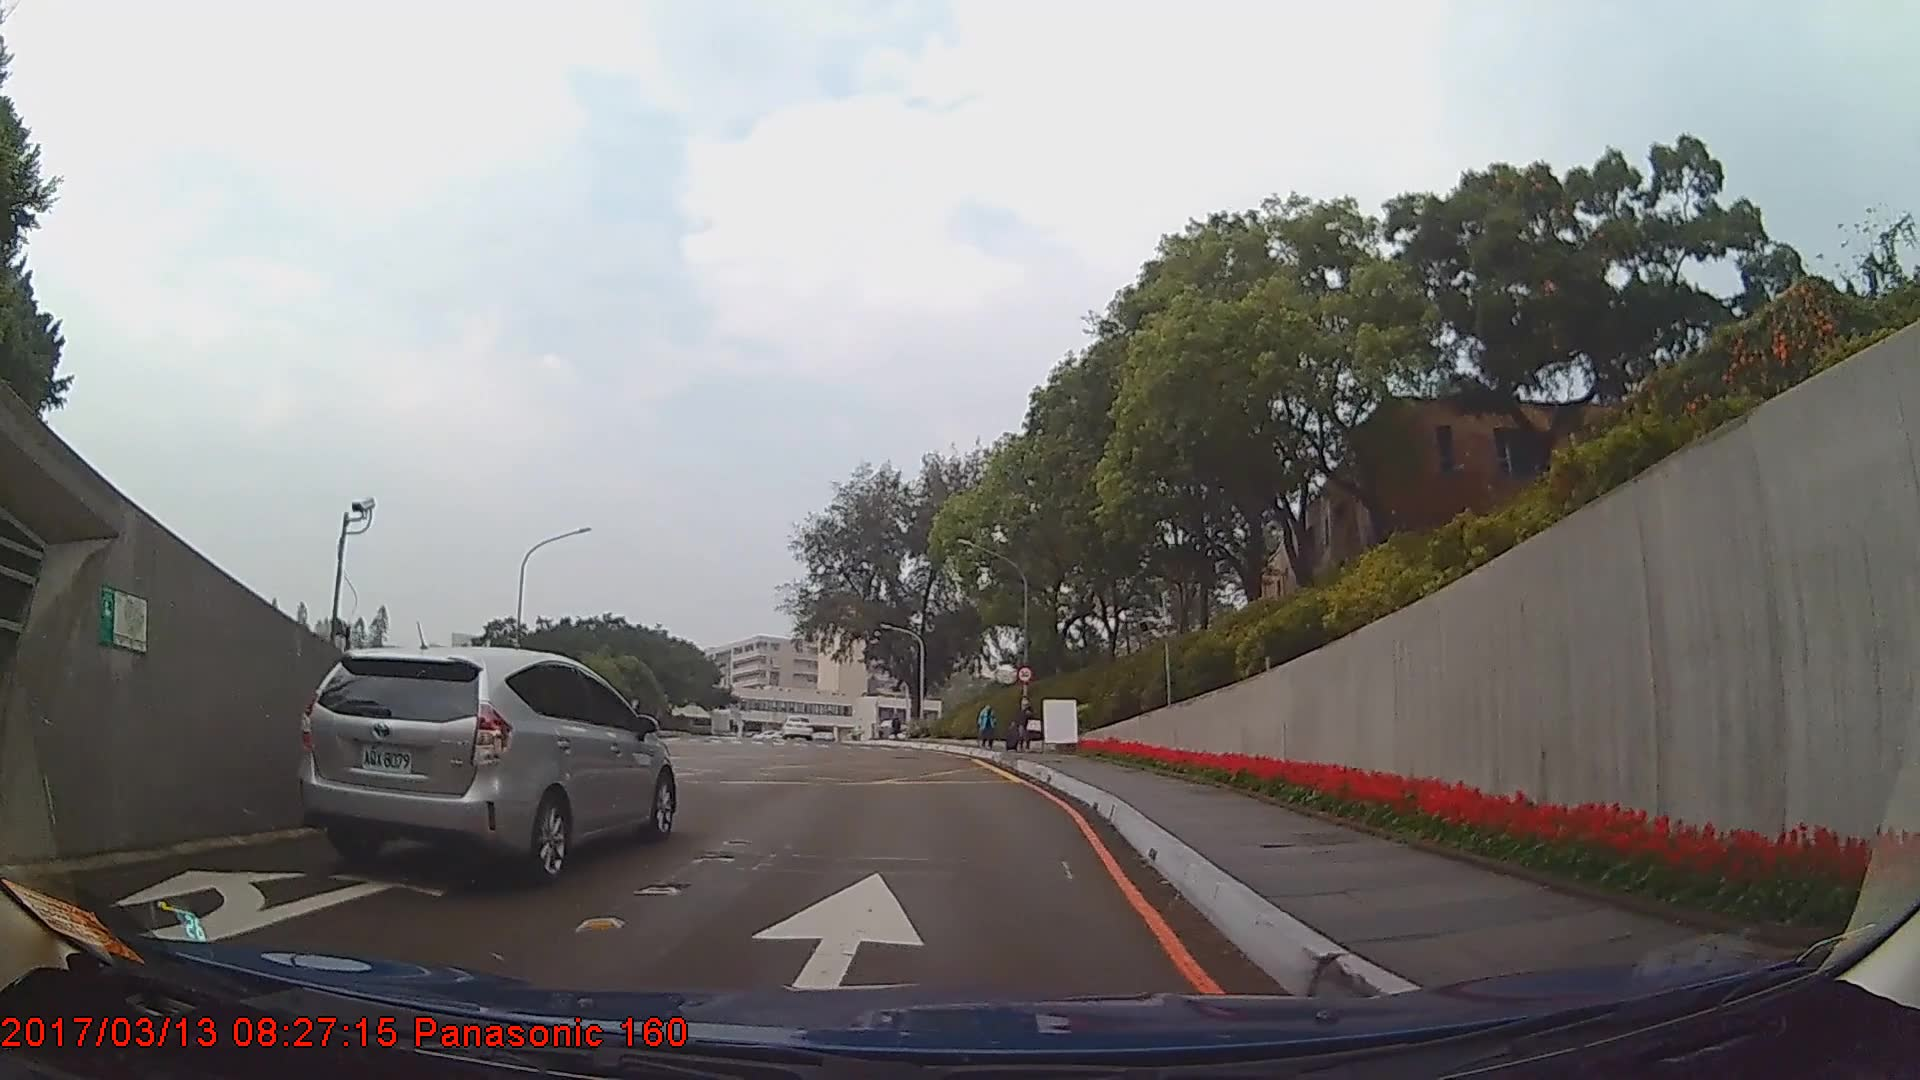pedestrian: (1006, 696, 1043, 753), (975, 703, 997, 751)
vehicle: (291, 645, 674, 888), (780, 714, 813, 741)
